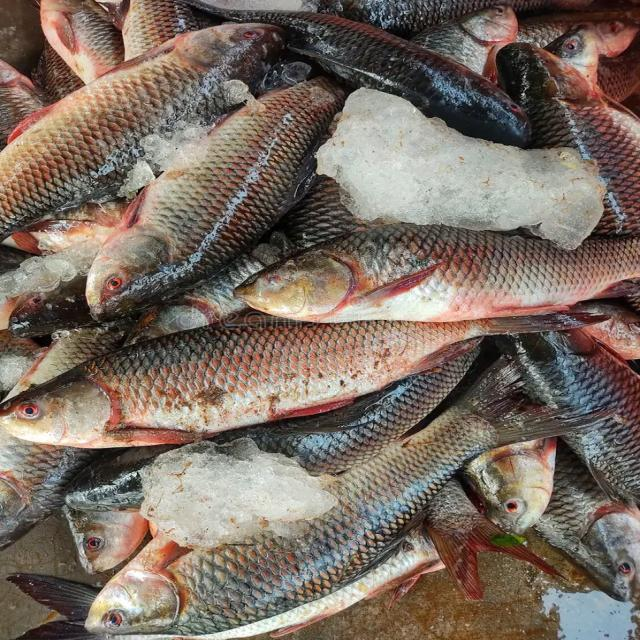Rohu: (0, 316, 583, 448), (89, 79, 338, 324), (230, 228, 640, 321)
